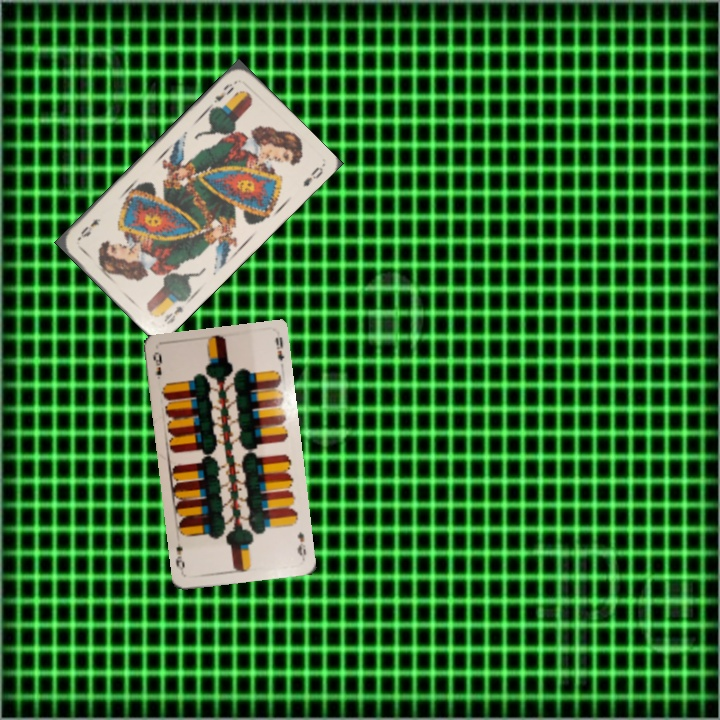E9: (293, 528, 309, 560), (149, 348, 164, 382)
EO: (209, 79, 237, 106), (160, 302, 186, 327)
